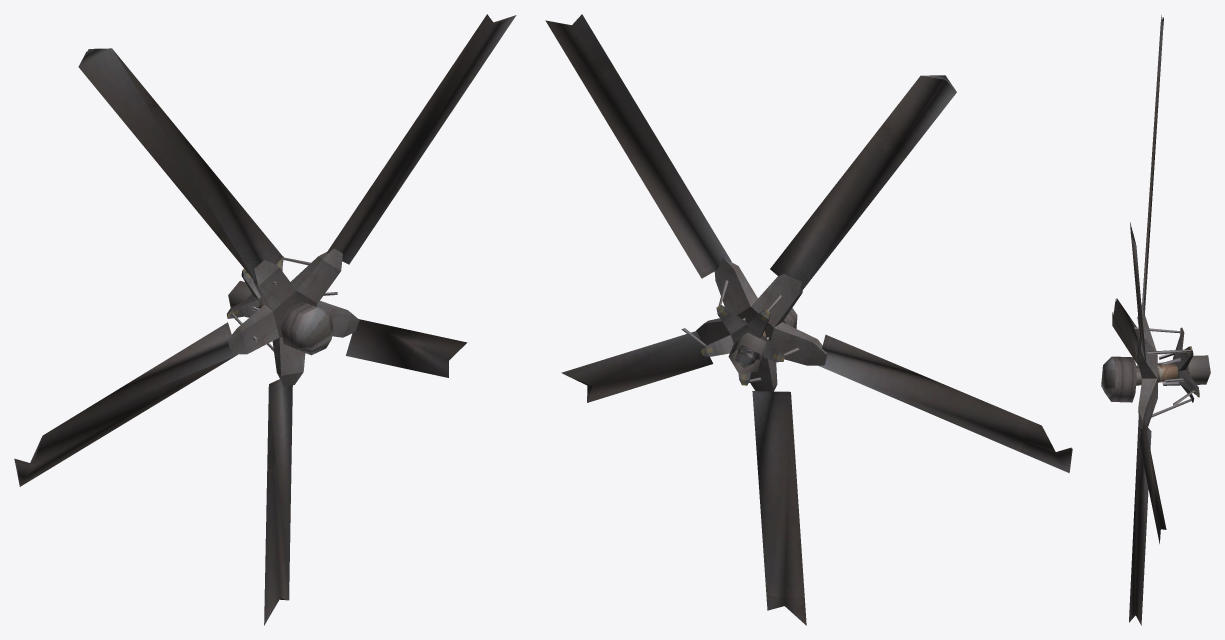
The model's file is vehicle_mi24p_hind_desert_d_piece02_LOD1.obj.
3 renders of one model, left to right at view 1: azimuth 30°, elevation 25°; view 2: azimuth 150°, elevation 25°; view 3: azimuth 270°, elevation 25°, orthographic. The views are drawn at different scales.
Visible parts, largest first — view 1: mtl_mi24p_hind_desert; view 2: mtl_mi24p_hind_desert; view 3: mtl_mi24p_hind_desert.
Part boxes in pixels (<box>): mtl_mi24p_hind_desert: <box>14,14,516,625</box>; mtl_mi24p_hind_desert: <box>545,14,1072,625</box>; mtl_mi24p_hind_desert: <box>1101,15,1210,625</box>.
Bounding box in the file's own units: 517 × 578 × 106.
